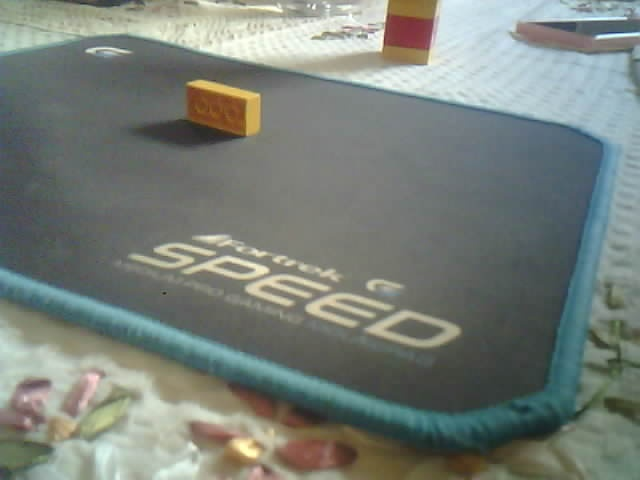lego: (183, 78, 261, 138), (380, 1, 442, 66)
